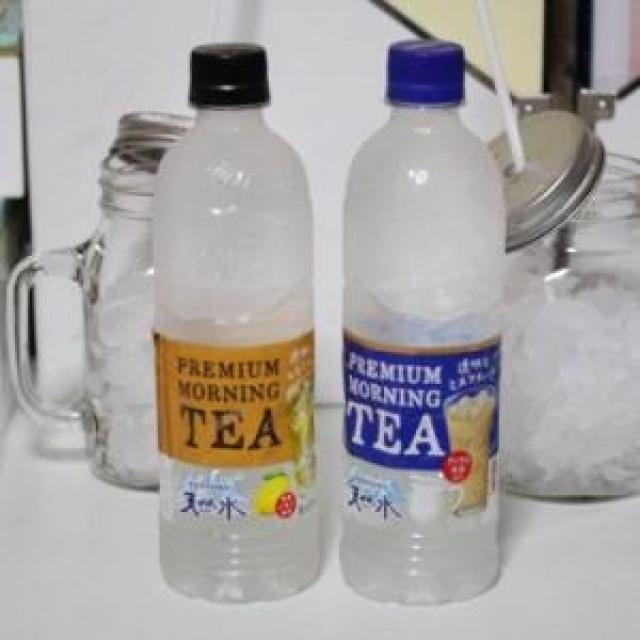bottle: (331, 28, 528, 621), (136, 29, 328, 596)
